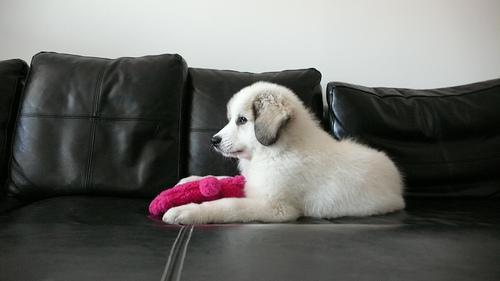Great_Pyrenees: (159, 81, 404, 223)
